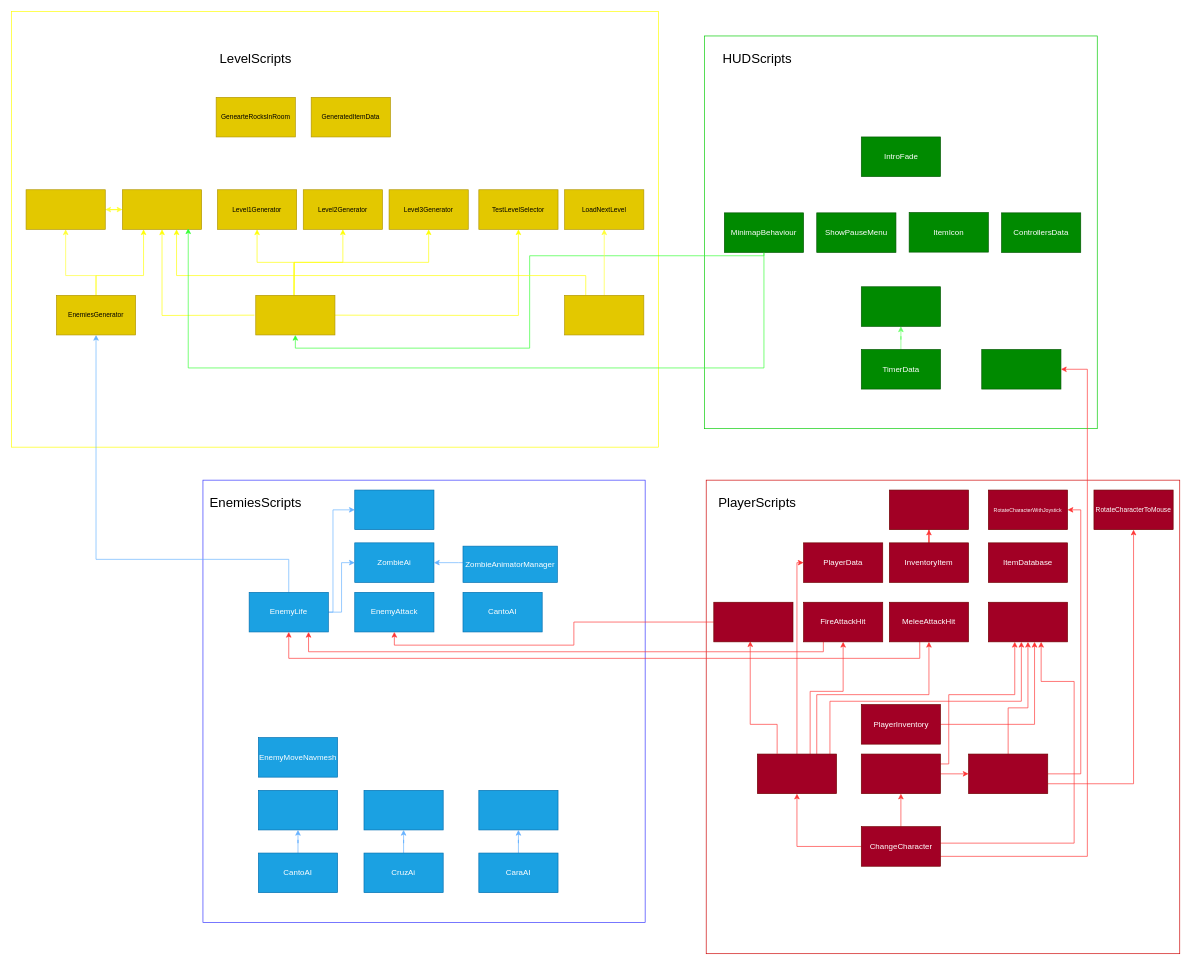
This 1191x966 diagram has some shape labels left out. Here are the shapes that lost their labels. From the top down, the box of each, then its label:
(25, 189, 105, 229): DoorEnabler
(122, 189, 202, 229): NextRoomCalculator
(255, 295, 335, 335): LevelGenerator
(564, 295, 644, 335): AudioManager
(861, 286, 940, 326): GameTimer
(981, 349, 1061, 389): RotateCoin
(354, 489, 434, 530): VanishGhost
(889, 489, 969, 530): Inventory
(713, 602, 793, 642): FireballBehaviour
(988, 602, 1068, 642): PickupItem
(757, 753, 837, 794): PlayerAttack
(861, 753, 940, 794): PlayerBehaviour
(968, 753, 1048, 794): PlayerHealth
(258, 790, 338, 830): CantoMovement
(363, 790, 443, 830): CruzMovement
(478, 790, 558, 830): EnemyMove
